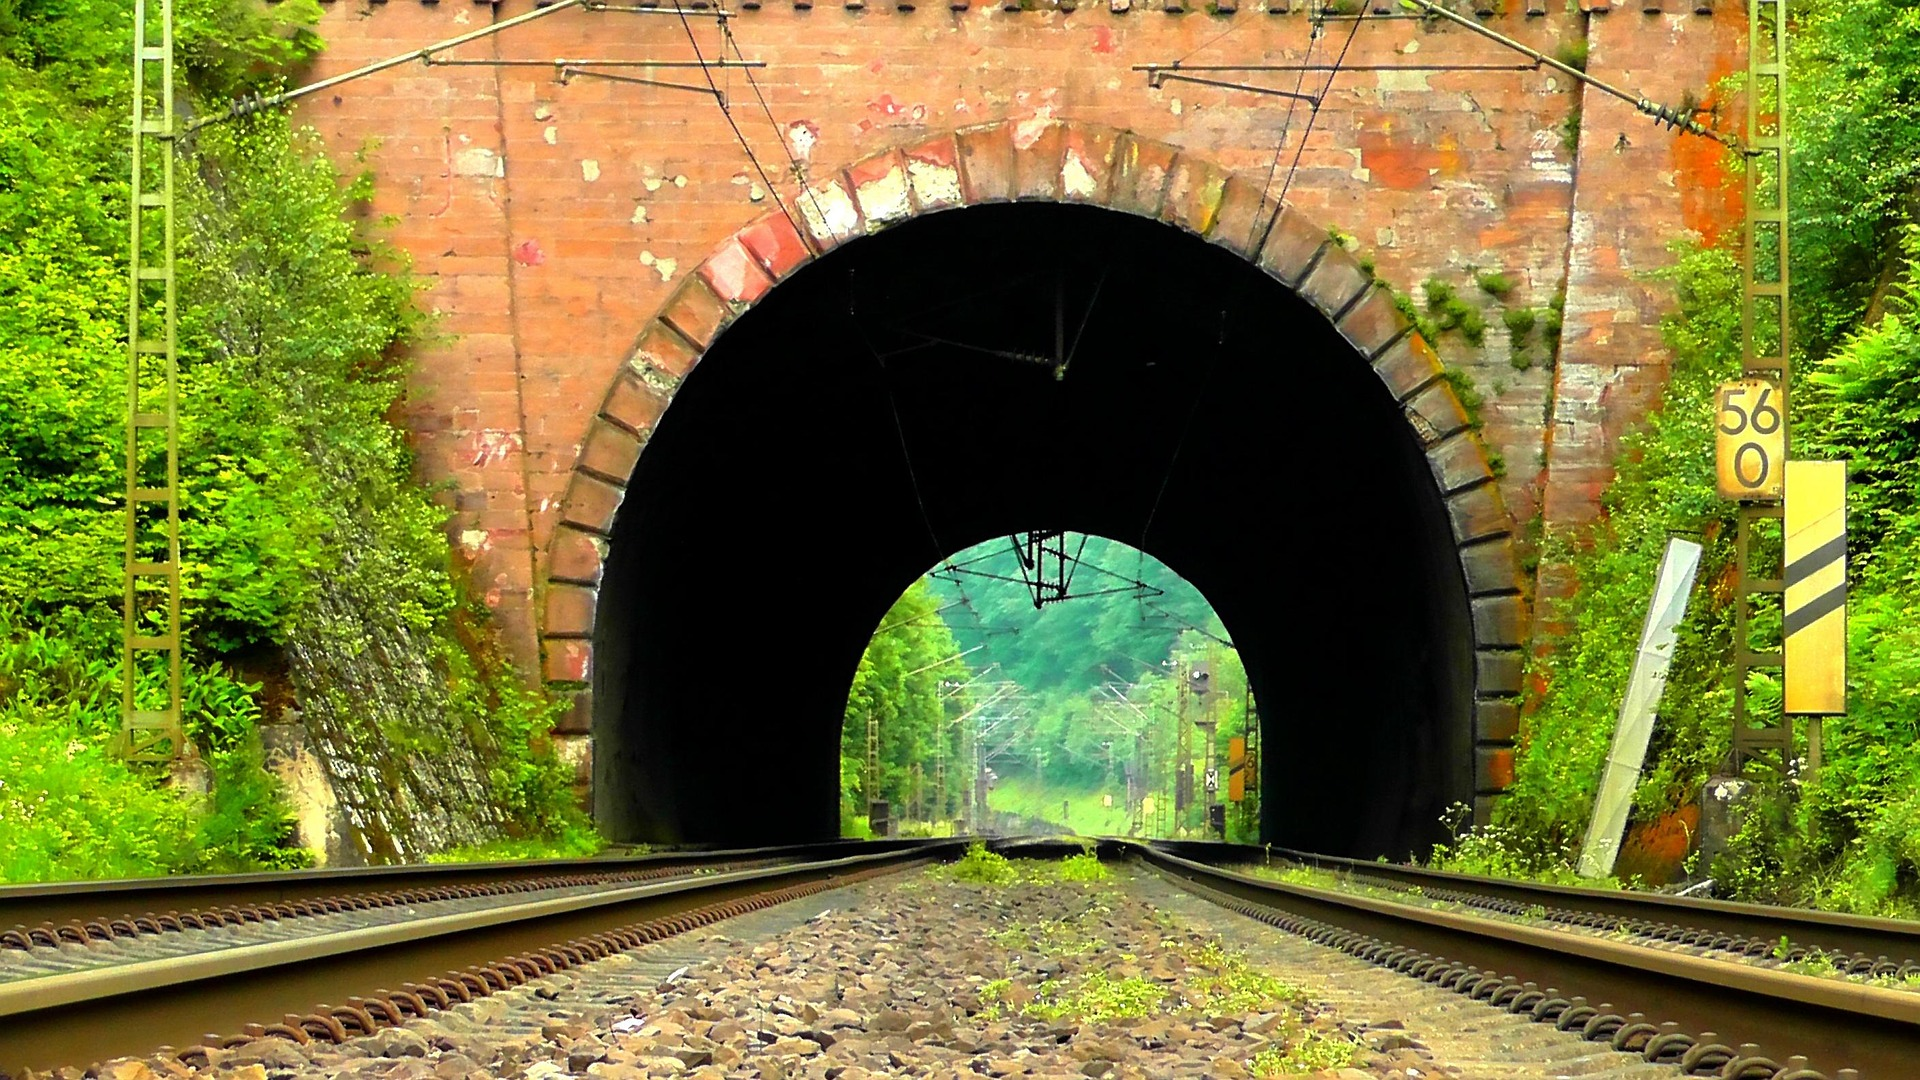voie1: (4, 837, 938, 1068)
voie2: (1114, 841, 1919, 1077)
